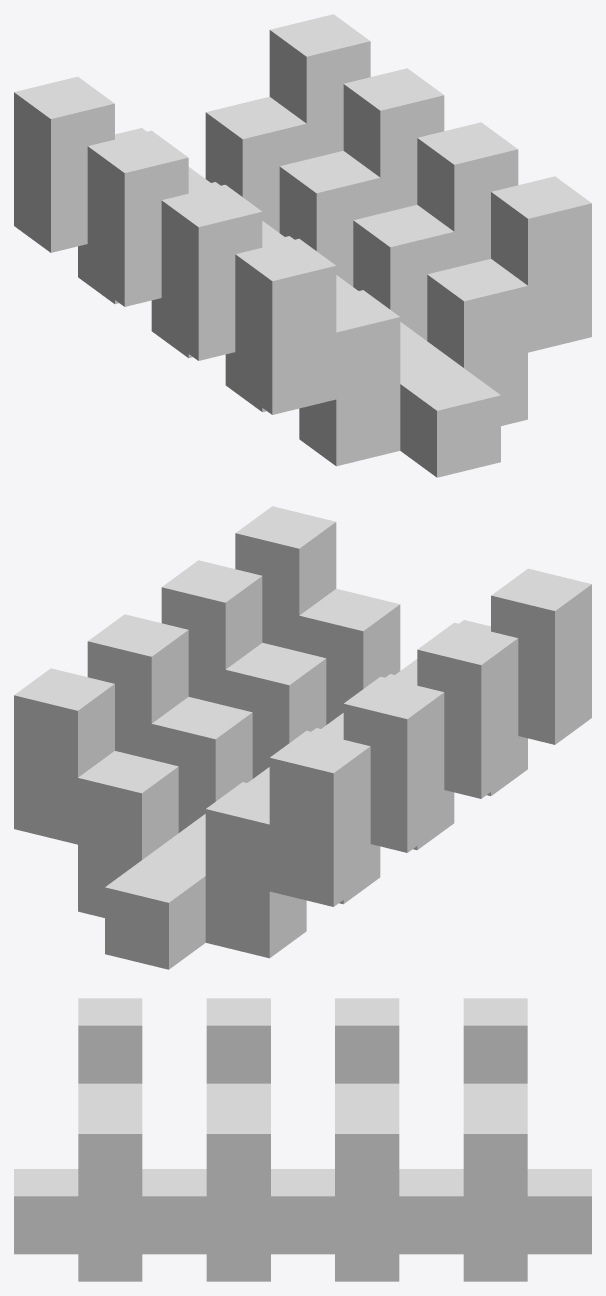
File: bones 1.obj
3 renders of one model, top to bottom at view 1: azimuth 30°, elevation 25°; view 2: azimuth 150°, elevation 25°; view 3: azimuth 270°, elevation 25°, orthographic. The views are drawn at different scales.
Bounding box in the file's own units: 0.5 × 0.3 × 0.9.
1 material, 1 textured.
